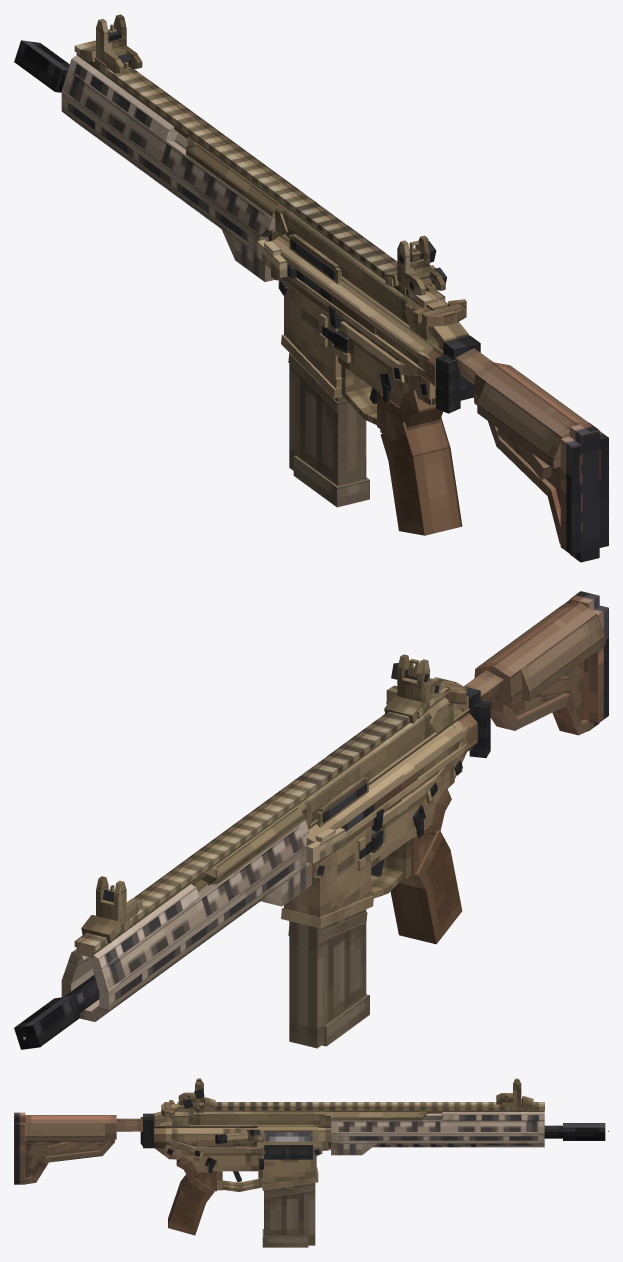
The picture shows the model from 3 angles, top to bottom: view 1: azimuth 30°, elevation 25°; view 2: azimuth 150°, elevation 25°; view 3: azimuth 270°, elevation 25°; orthographic projection. The views are drawn at different scales.
Parts seen in each view (by area): view 1: gun, magazine, rearsight, action, rearsightflipped, frontsight, frontsightflipped, bolt, bolt2; view 2: gun, magazine, rearsight, frontsight, bolt2; view 3: gun, magazine, bolt3, rearsightflipped.
Boxes of the visible parts, <box> form: gun: <box>14,40,608,562</box>; magazine: <box>288,353,369,507</box>; rearsight: <box>397,235,436,285</box>; action: <box>413,299,466,326</box>; rearsightflipped: <box>399,266,446,295</box>; frontsight: <box>96,14,126,64</box>; frontsightflipped: <box>97,45,142,73</box>; bolt: <box>287,263,376,334</box>; bolt2: <box>257,239,287,277</box>; gun: <box>14,591,608,1049</box>; magazine: <box>288,909,369,1048</box>; rearsight: <box>391,654,430,703</box>; frontsight: <box>96,876,126,923</box>; bolt2: <box>306,827,345,863</box>; gun: <box>14,1096,605,1235</box>; magazine: <box>262,1183,315,1247</box>; bolt3: <box>264,1132,312,1141</box>; rearsightflipped: <box>178,1092,202,1108</box>.
Size of the model in its own units: 47.91 by 196 by 653.
